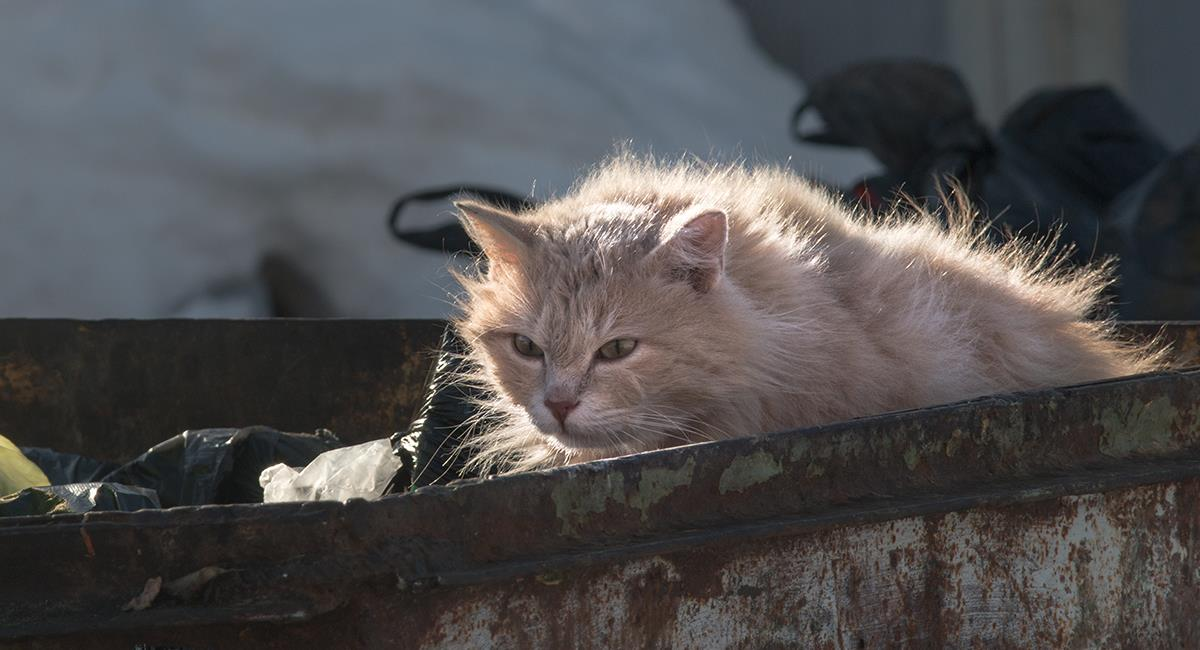cat: (440, 150, 1160, 481)
